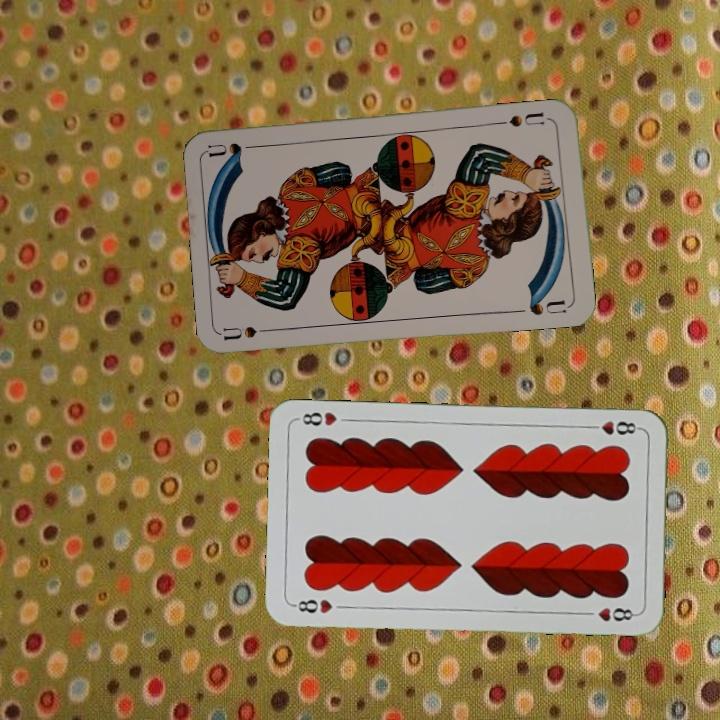H8: (584, 416, 643, 438), (289, 595, 335, 616)
SU: (221, 322, 280, 343), (505, 108, 547, 129)
